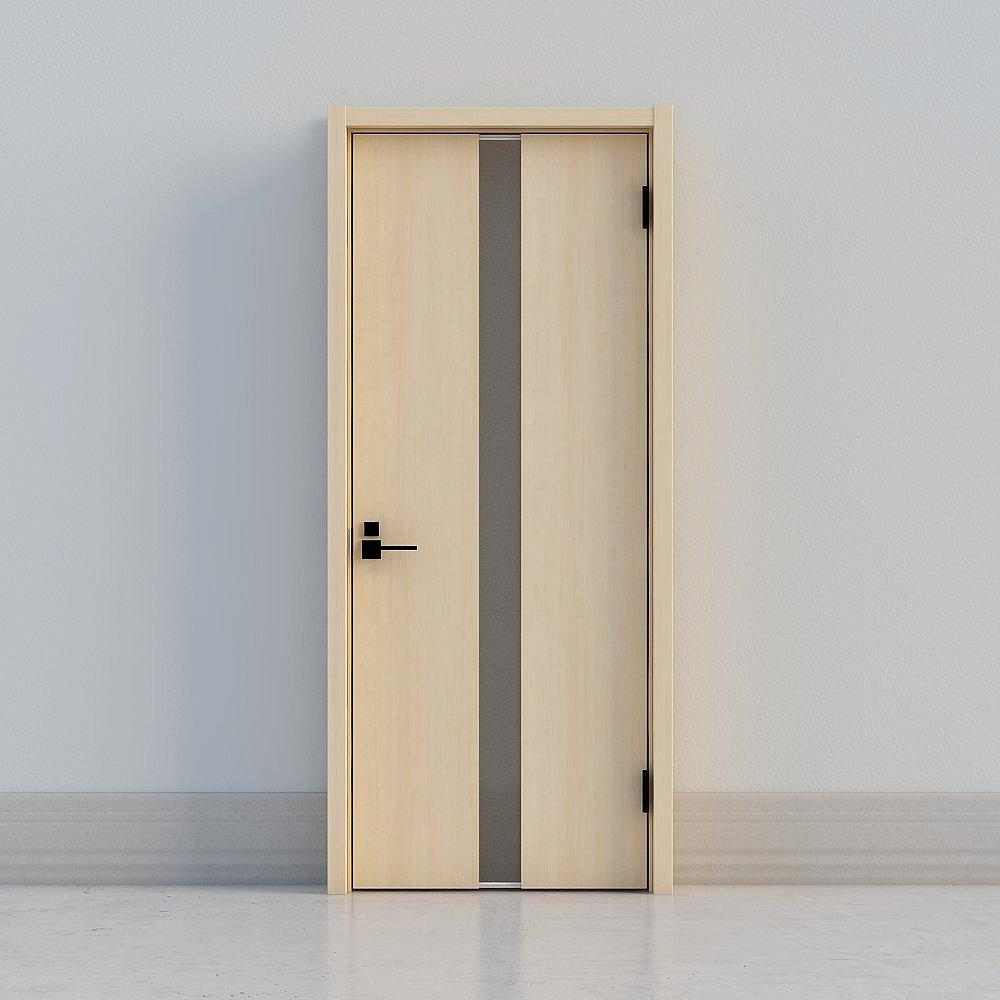door: (330, 122, 668, 891)
